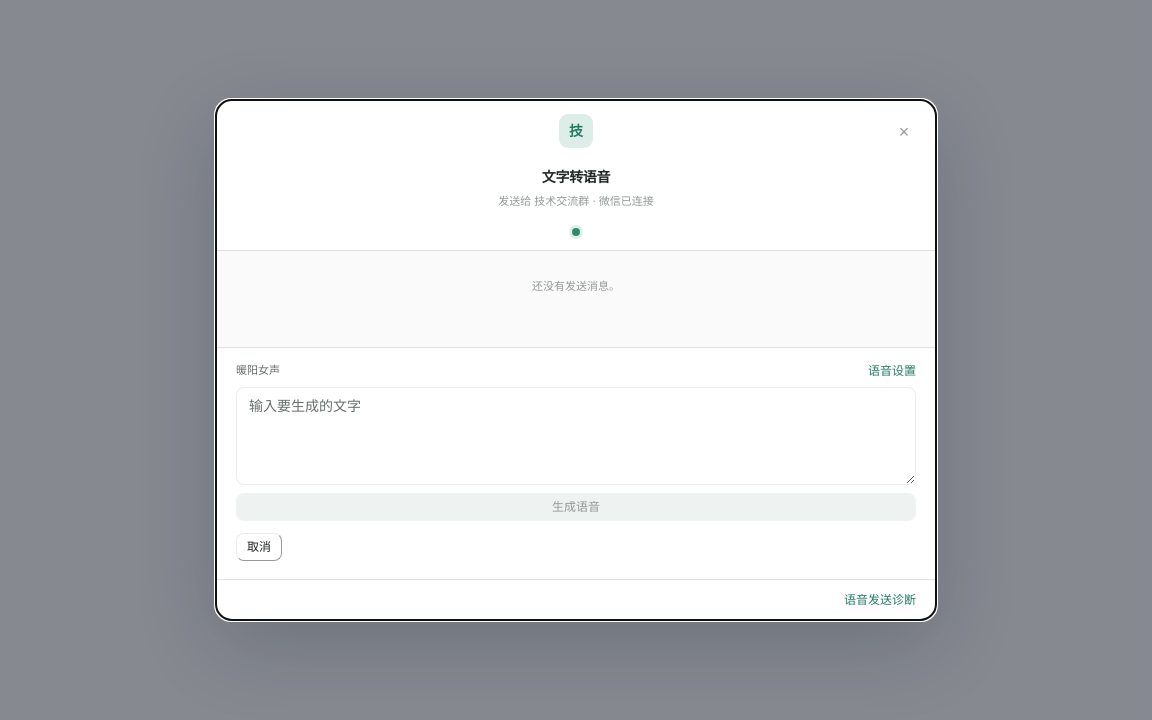
Scenario: PersonalWechatSendDialog › generates, previews and sends a voice through the semantic TTS IPC
Type "你好 TraceMemo" into the text box named "语音文字".
click(576, 436); type("你好 TraceMemo")  # box [236,387,916,485]
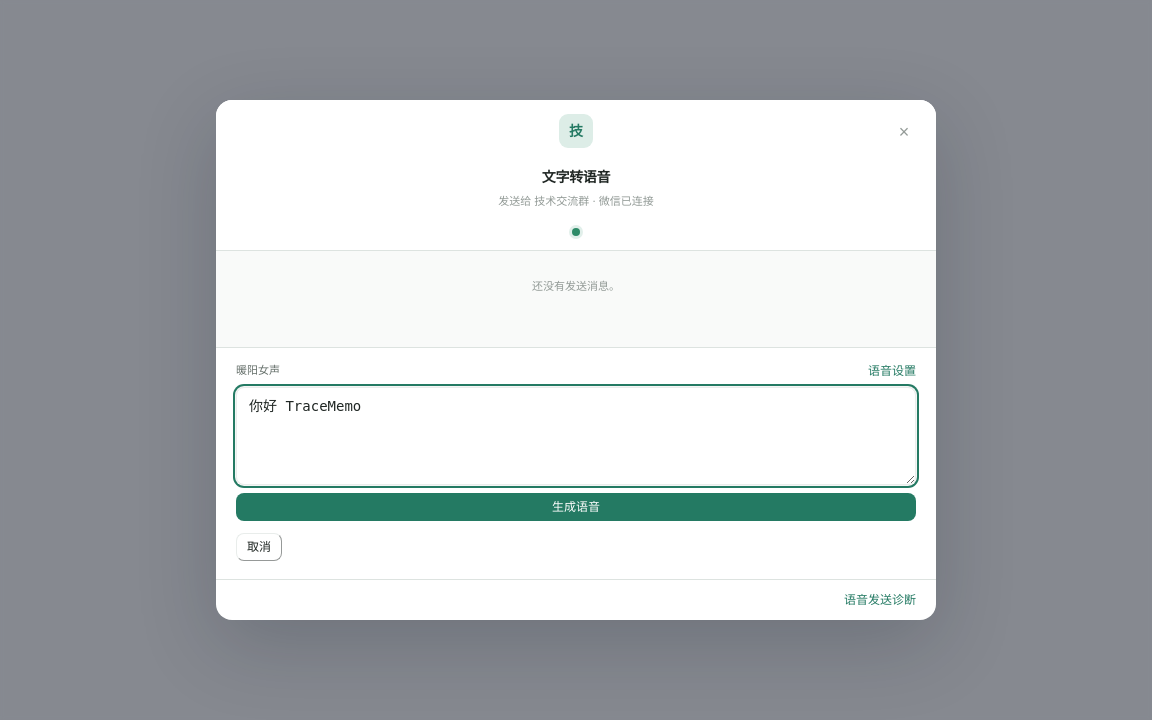
Click the button "生成语音".
click(576, 507)  # box [236,493,916,521]
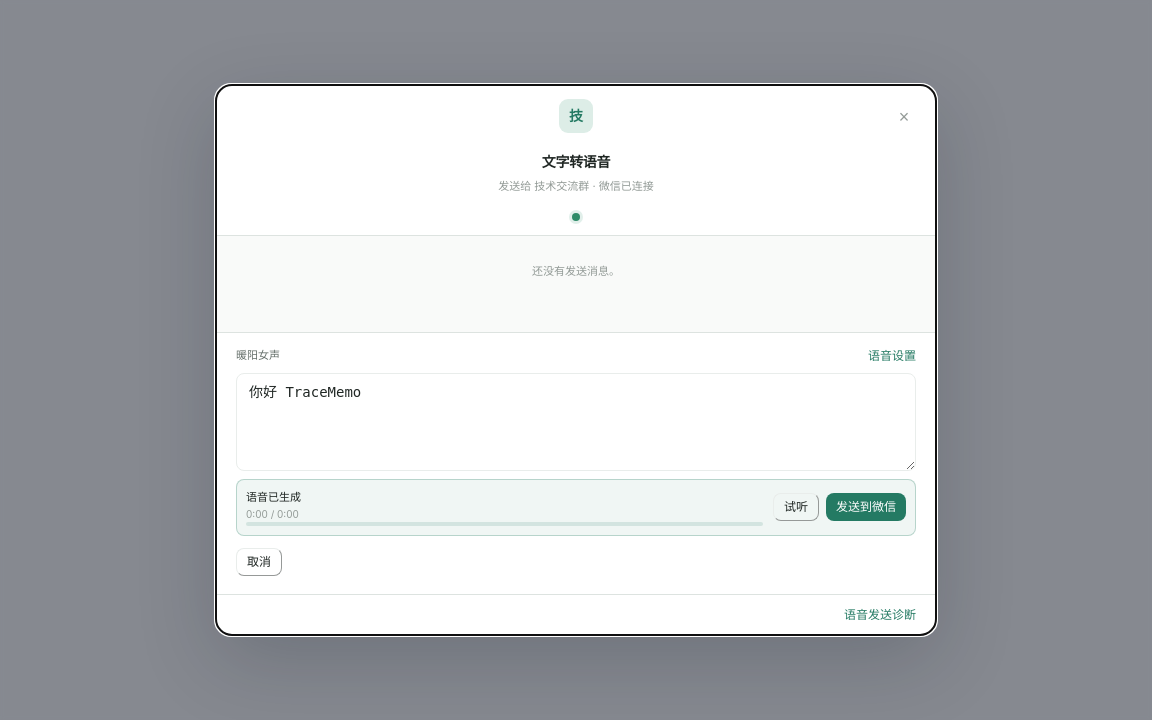
Expected: the text "语音已生成" is shown, [246,490,301,504]
Expected: the button "试听" is enabled, [773,493,819,521]
Click the button "发送到微信".
click(866, 507)  # box [826,493,906,521]
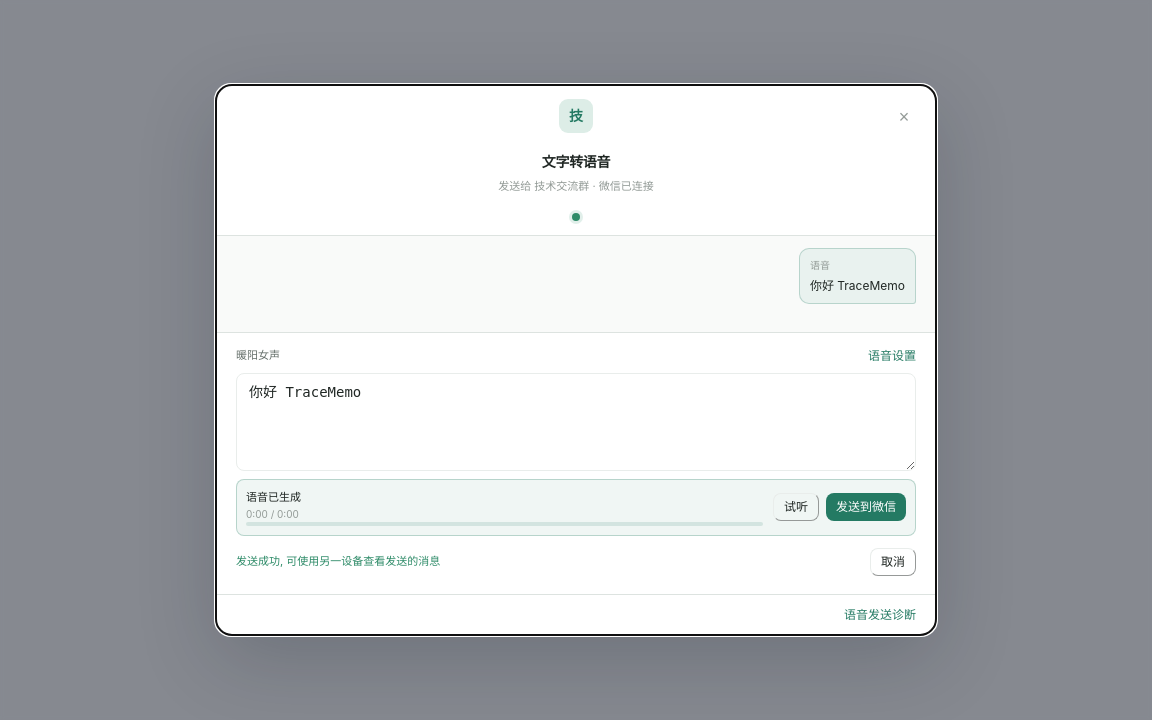
Expected: the element named "消息列表" shows "你好 TraceMemo", [810,278,905,293]
